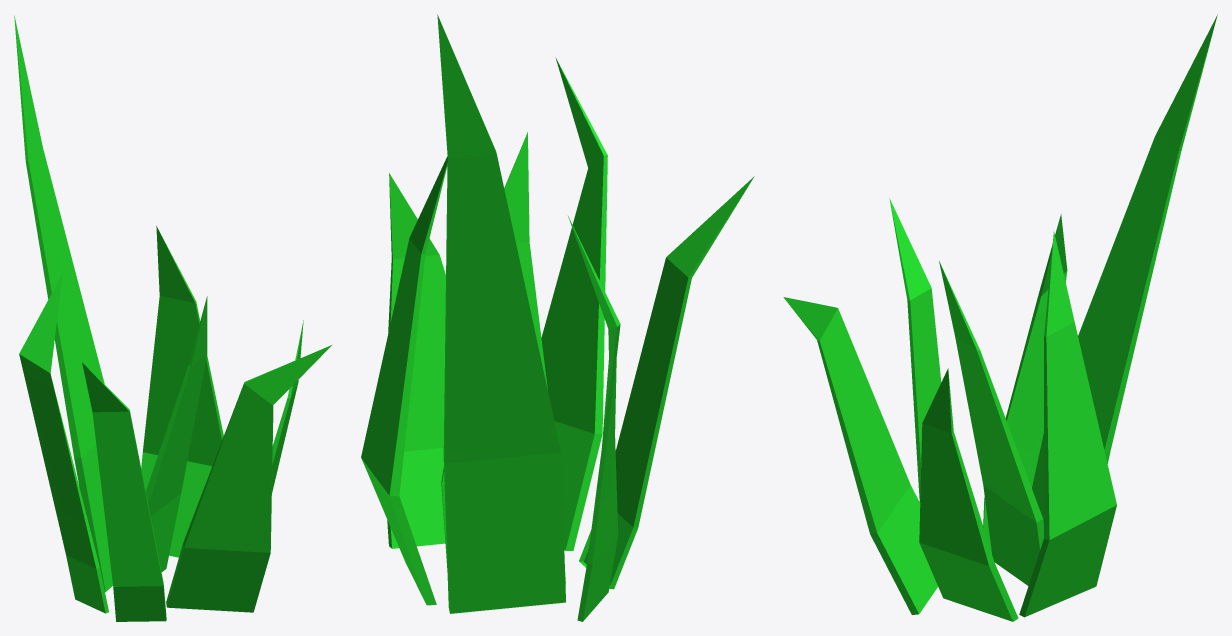
File: grass3.fbx
3 views of the same model, side by side, from view 1: azimuth 30°, elevation 25°; view 2: azimuth 150°, elevation 25°; view 3: azimuth 270°, elevation 25° (orthographic). The views are drawn at different scales.
Visible parts, largest first — view 1: Cube.002; view 2: Cube.002; view 3: Cube.002.
Boxes of the visible parts, x1,y1,x2,y2 form: Cube.002: (14, 15, 331, 621); Cube.002: (361, 14, 754, 621); Cube.002: (783, 14, 1217, 621).
Size of the model in its own units: 1095 by 2174 by 1551.
